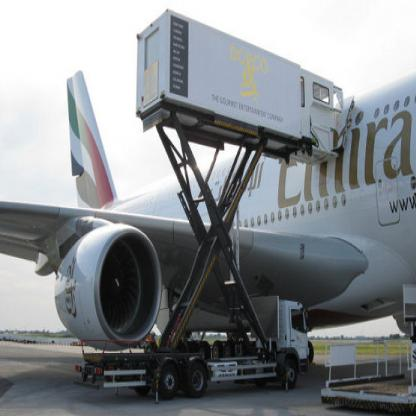Catering truck: (125, 8, 348, 400)
